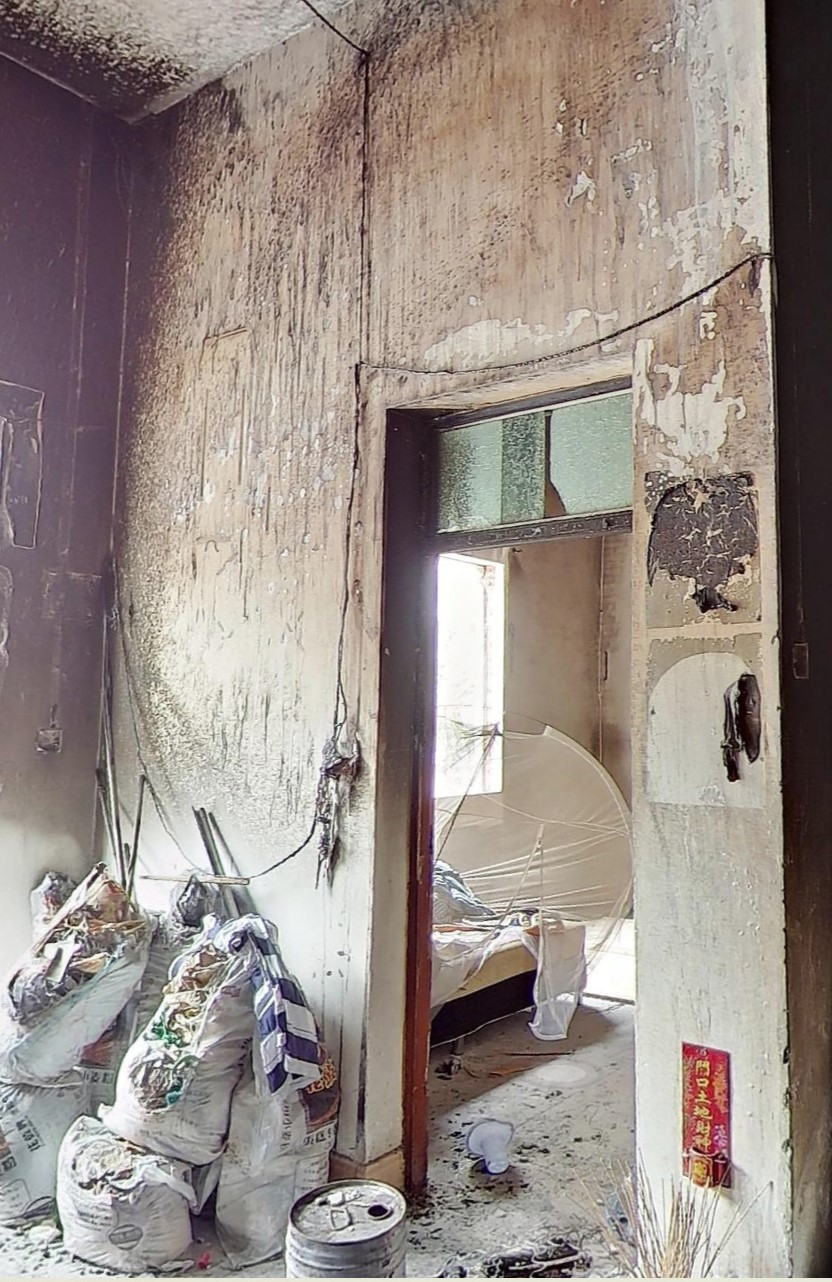Damage_level1: (765, 21, 820, 1053), (5, 157, 95, 735), (376, 424, 417, 924), (519, 555, 620, 745), (649, 821, 777, 957)
Damage_level2: (394, 50, 741, 305), (150, 174, 344, 566), (130, 604, 304, 819), (3, 4, 275, 113), (646, 336, 768, 470)
